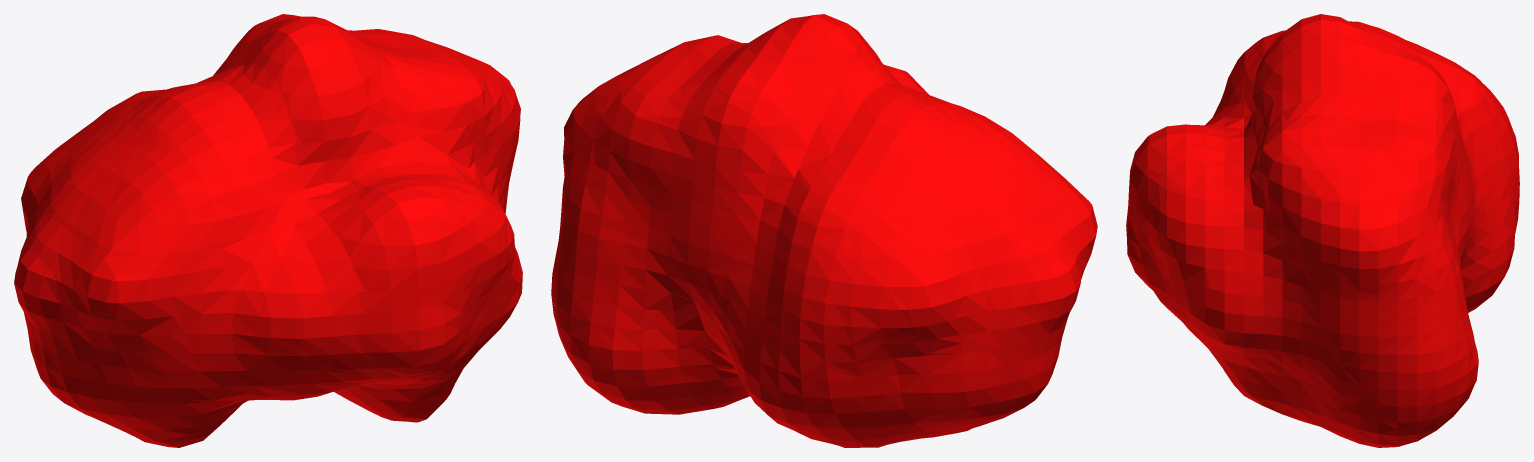
Rendered from ppiC_coarse.dae.
The picture shows the model from 3 angles, left to right: view 1: azimuth 30°, elevation 25°; view 2: azimuth 150°, elevation 25°; view 3: azimuth 270°, elevation 25°; orthographic projection. The views are drawn at different scales.
Parts seen in each view (by area): view 1: ppiC; view 2: ppiC; view 3: ppiC.
Part boxes in pixels (bbox=[...]): ppiC: bbox=[14, 14, 522, 447]; ppiC: bbox=[551, 14, 1097, 447]; ppiC: bbox=[1126, 14, 1519, 447].
Size of the model in its own units: 42.89 by 33.22 by 32.09.
